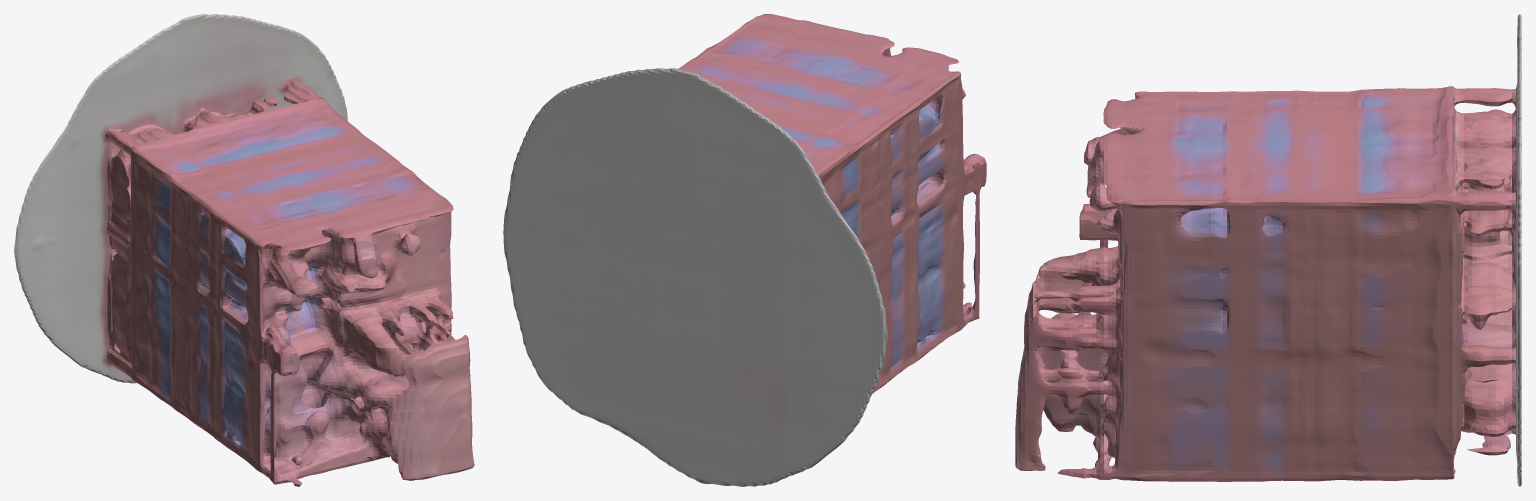
Rendered from 20251031T154124Z_ShapE_aecd08c7b6fa.glb.
3 renders of one model, left to right at view 1: azimuth 30°, elevation 25°; view 2: azimuth 150°, elevation 25°; view 3: azimuth 270°, elevation 25°, orthographic. The views are drawn at different scales.
Parts seen in each view (by area): view 1: model.ply; view 2: model.ply; view 3: model.ply.
Boxes of the visible parts, left/top/right/bottom form: model.ply: left=14, top=14, right=474, bottom=486; model.ply: left=503, top=14, right=986, bottom=486; model.ply: left=1015, top=14, right=1521, bottom=486.
Size of the model in its own units: 1.89 by 1.92 by 1.98.
